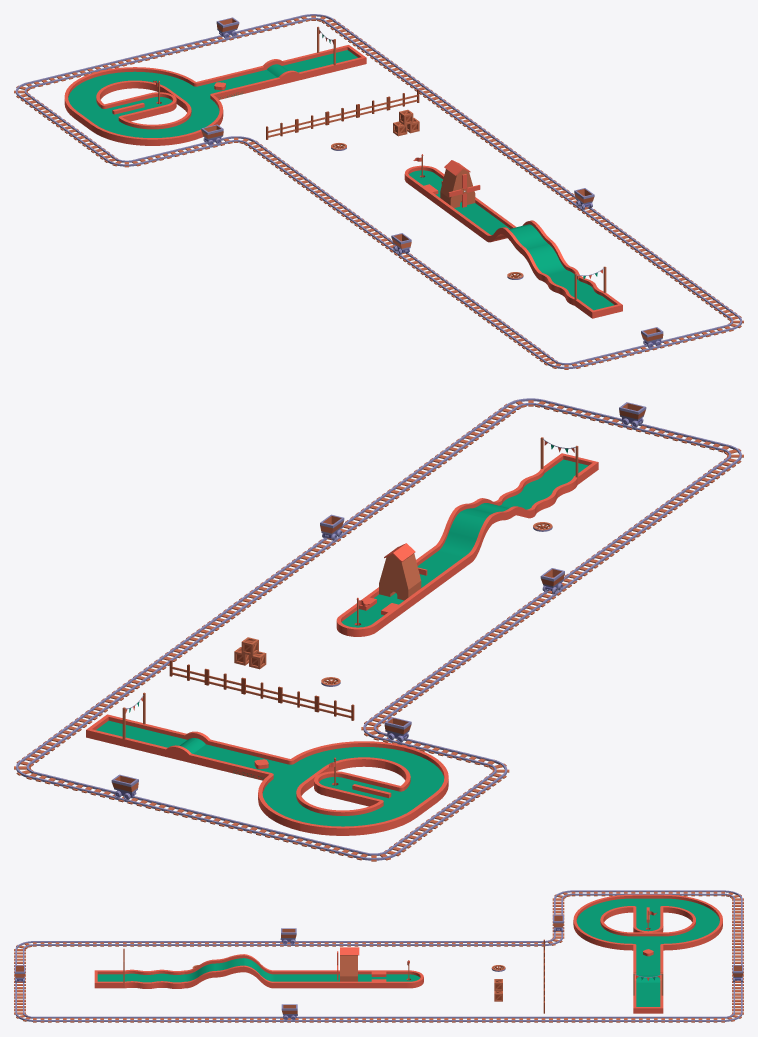
Rendered from course-train.glb.
3 views of the same model, one above another, from view 1: azimuth 30°, elevation 25°; view 2: azimuth 150°, elevation 25°; view 3: azimuth 270°, elevation 25° (orthographic). The views are drawn at different scales.
Visible parts, largest first — view 1: bend_large (×4), straight (×3), end_roundHole (×2), straight_wiggle (×2), slope_smoothB, slope_smoothA, straight_bump, spawn1, building_windmill, spawn2, straight_mid, split; view 2: bend_large (×4), straight (×3), end_roundHole (×2), straight_wiggle (×2), slope_smoothC, split (×2), building_windmill, straight_bump, spawn2, straight_mid, spawn1, straight_narrowSquare; view 3: bend_large (×4), straight (×5), straight_wiggle (×2), split (×2), end_roundHole (×2), slope_smoothA, slope_smoothC, slope_smoothB, spawn1, straight_narrowSquare, building_windmill, spawn2 (+4 smaller).
Part boxes in pixels (x1=…): bend_large (×4): x1=64, y1=67, x2=223, y2=145; straight (×3): x1=227, y1=52, x2=498, y2=227; end_roundHole (×2): x1=135, y1=92, x2=444, y2=189; straight_wiggle (×2): x1=539, y1=266, x2=603, y2=305; slope_smoothB: x1=521, y1=240, x2=569, y2=279; slope_smoothA: x1=504, y1=221, x2=551, y2=253; straight_bump: x1=257, y1=59, x2=305, y2=86; spawn1: x1=574, y1=292, x2=622, y2=318; building_windmill: x1=440, y1=160, x2=474, y2=199; spawn2: x1=319, y1=45, x2=366, y2=71; straight_mid: x1=105, y1=97, x2=152, y2=121; split: x1=74, y1=104, x2=121, y2=130; bend_large (×4): x1=258, y1=741, x2=448, y2=835; straight (×3): x1=122, y1=546, x2=471, y2=773; end_roundHole (×2): x1=314, y1=608, x2=386, y2=799; straight_wiggle (×2): x1=498, y1=469, x2=577, y2=515; slope_smoothC: x1=435, y1=507, x2=492, y2=562; split (×2): x1=270, y1=759, x2=437, y2=817; building_windmill: x1=379, y1=543, x2=420, y2=589; straight_bump: x1=159, y1=731, x2=216, y2=764; spawn2: x1=86, y1=714, x2=142, y2=746; straight_mid: x1=343, y1=777, x2=399, y2=806; spawn1: x1=543, y1=453, x2=598, y2=484; straight_narrowSquare: x1=350, y1=592, x2=407, y2=624; bend_large (×4): x1=573, y1=894, x2=722, y2=950; straight (×5): x1=274, y1=957, x2=663, y2=998; straight_wiggle (×2): x1=124, y1=969, x2=184, y2=988; split (×2): x1=633, y1=894, x2=663, y2=947; end_roundHole (×2): x1=394, y1=919, x2=663, y2=988; slope_smoothA: x1=214, y1=954, x2=244, y2=977; slope_smoothC: x1=244, y1=954, x2=274, y2=988; slope_smoothB: x1=184, y1=959, x2=214, y2=988; spawn1: x1=94, y1=970, x2=124, y2=988; straight_narrowSquare: x1=364, y1=970, x2=393, y2=988; building_windmill: x1=340, y1=947, x2=359, y2=976; spawn2: x1=633, y1=995, x2=663, y2=1013.
Bounding box in the file's own units: 10.4 × 1.29 × 24.4.
